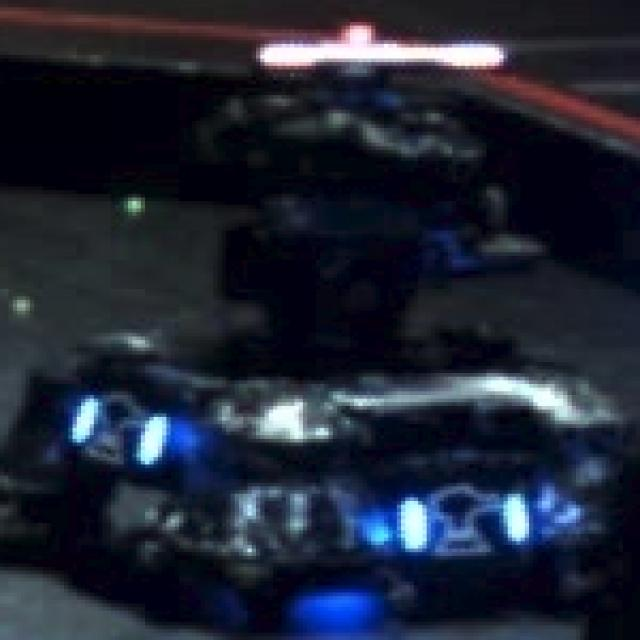Bs: (397, 490, 525, 552), (68, 395, 166, 468)
